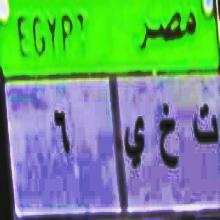6: (52, 107, 72, 162)
khaa: (158, 97, 180, 176)
taa: (191, 94, 218, 157)
yaa: (124, 114, 148, 176)
